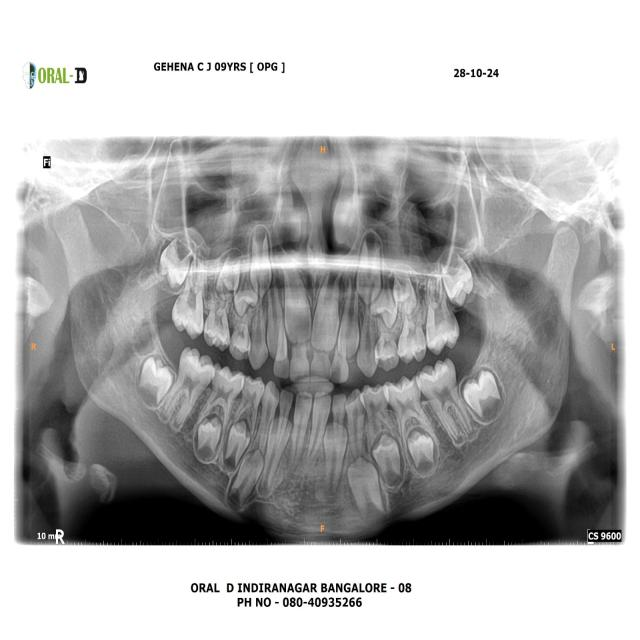Premolars: (356, 383, 404, 461)
